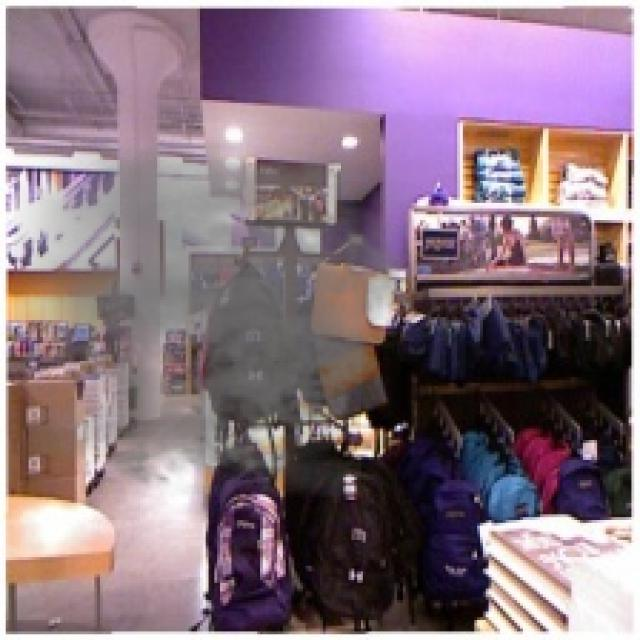smoke: (14, 137, 429, 497)
